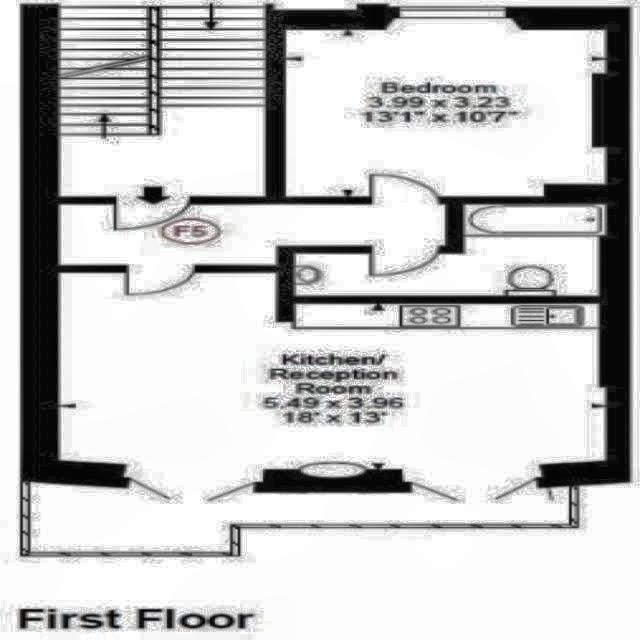room: (58, 270, 608, 471), (285, 18, 607, 197), (60, 6, 268, 196), (294, 204, 607, 296), (59, 204, 444, 265)
